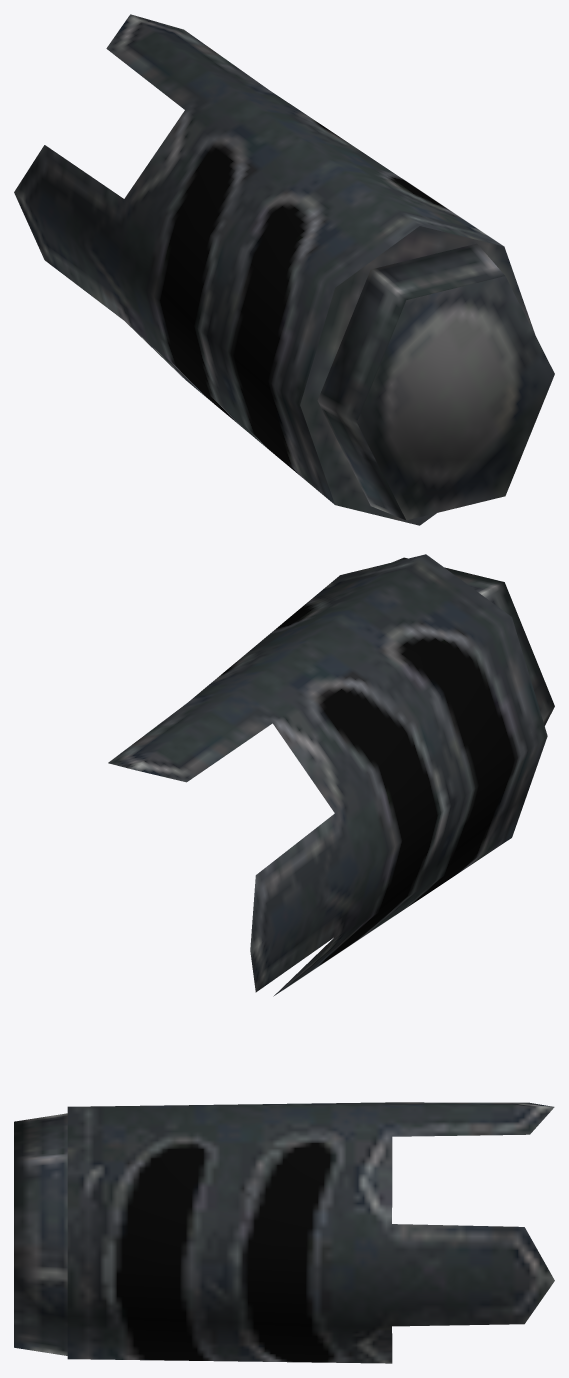
Rendered from Pickup_WeaponZj03.glb.
The picture shows the model from 3 angles, top to bottom: view 1: azimuth 30°, elevation 25°; view 2: azimuth 150°, elevation 25°; view 3: azimuth 270°, elevation 25°; orthographic projection. The views are drawn at different scales.
Parts seen in each view (by area): view 1: pk_weapon_zj03; view 2: pk_weapon_zj03; view 3: pk_weapon_zj03.
Boxes of the visible parts, box(x1,y1,x2,y2) form: pk_weapon_zj03: box(14, 14, 554, 525); pk_weapon_zj03: box(108, 554, 554, 996); pk_weapon_zj03: box(14, 1102, 554, 1363).
Bounding box in the file's own units: 0.1317 × 0.1576 × 0.3063.
Materials: 1 (1 with a texture image).
